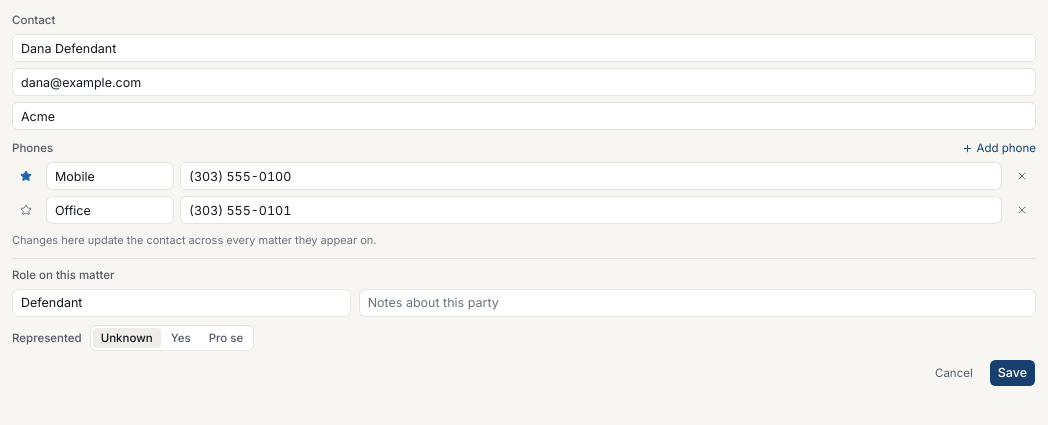
PartyEditForm - result handling › phone errors render next to the phone editor
Click the button "Save": (1012, 373) [989, 359, 1036, 387]
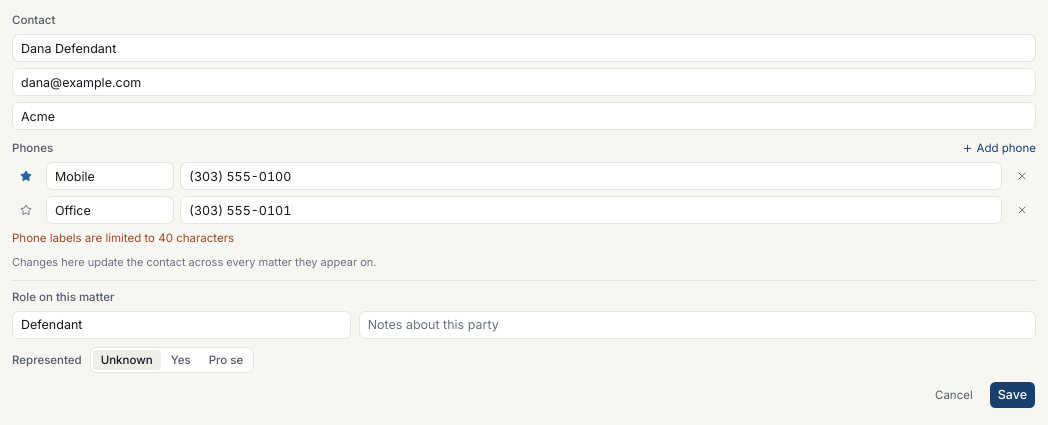
Expected: the text "Phone labels are limited to 40 characters" is shown, [12, 231, 234, 245]
